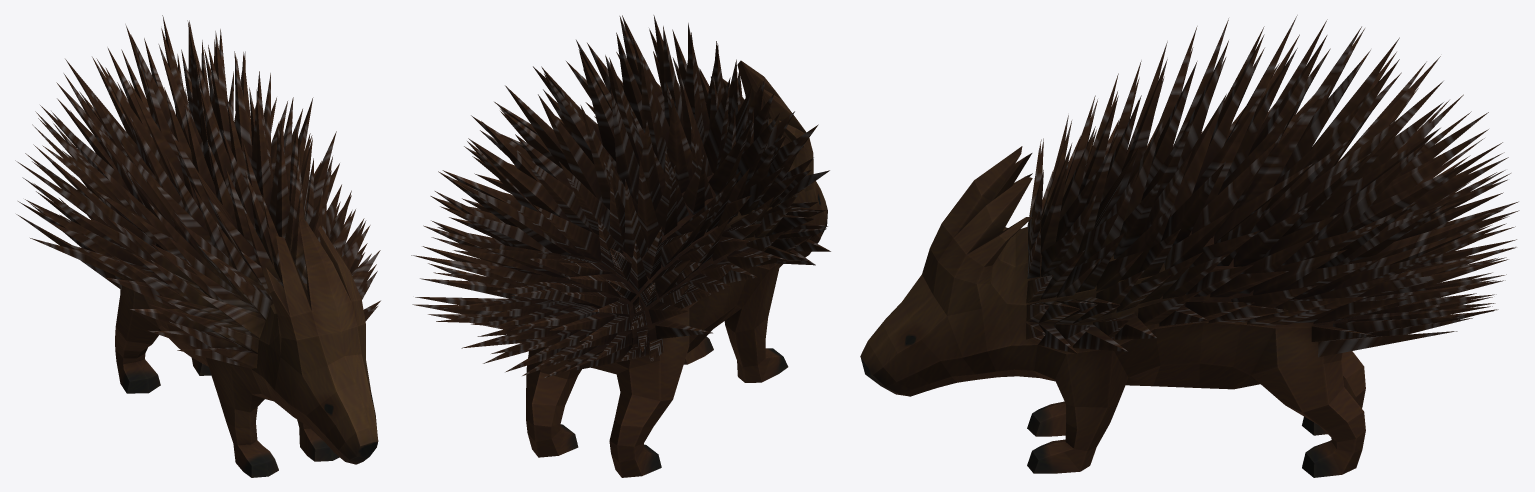
The model's file is porco-espinho.glb.
3 views of the same model, side by side, from view 1: azimuth 30°, elevation 25°; view 2: azimuth 150°, elevation 25°; view 3: azimuth 270°, elevation 25° (orthographic). The views are drawn at different scales.
Visible parts, largest first — view 1: Porcupine_mesh; view 2: Porcupine_mesh; view 3: Porcupine_mesh.
Part boxes in pixels (x1,y1,x2,y2): Porcupine_mesh: (15,15,380,477); Porcupine_mesh: (411,15,830,477); Porcupine_mesh: (860,15,1519,477).
Bounding box in the file's own units: 0.9688 × 1.29 × 1.83.
Materials: 1 (1 with a texture image).
